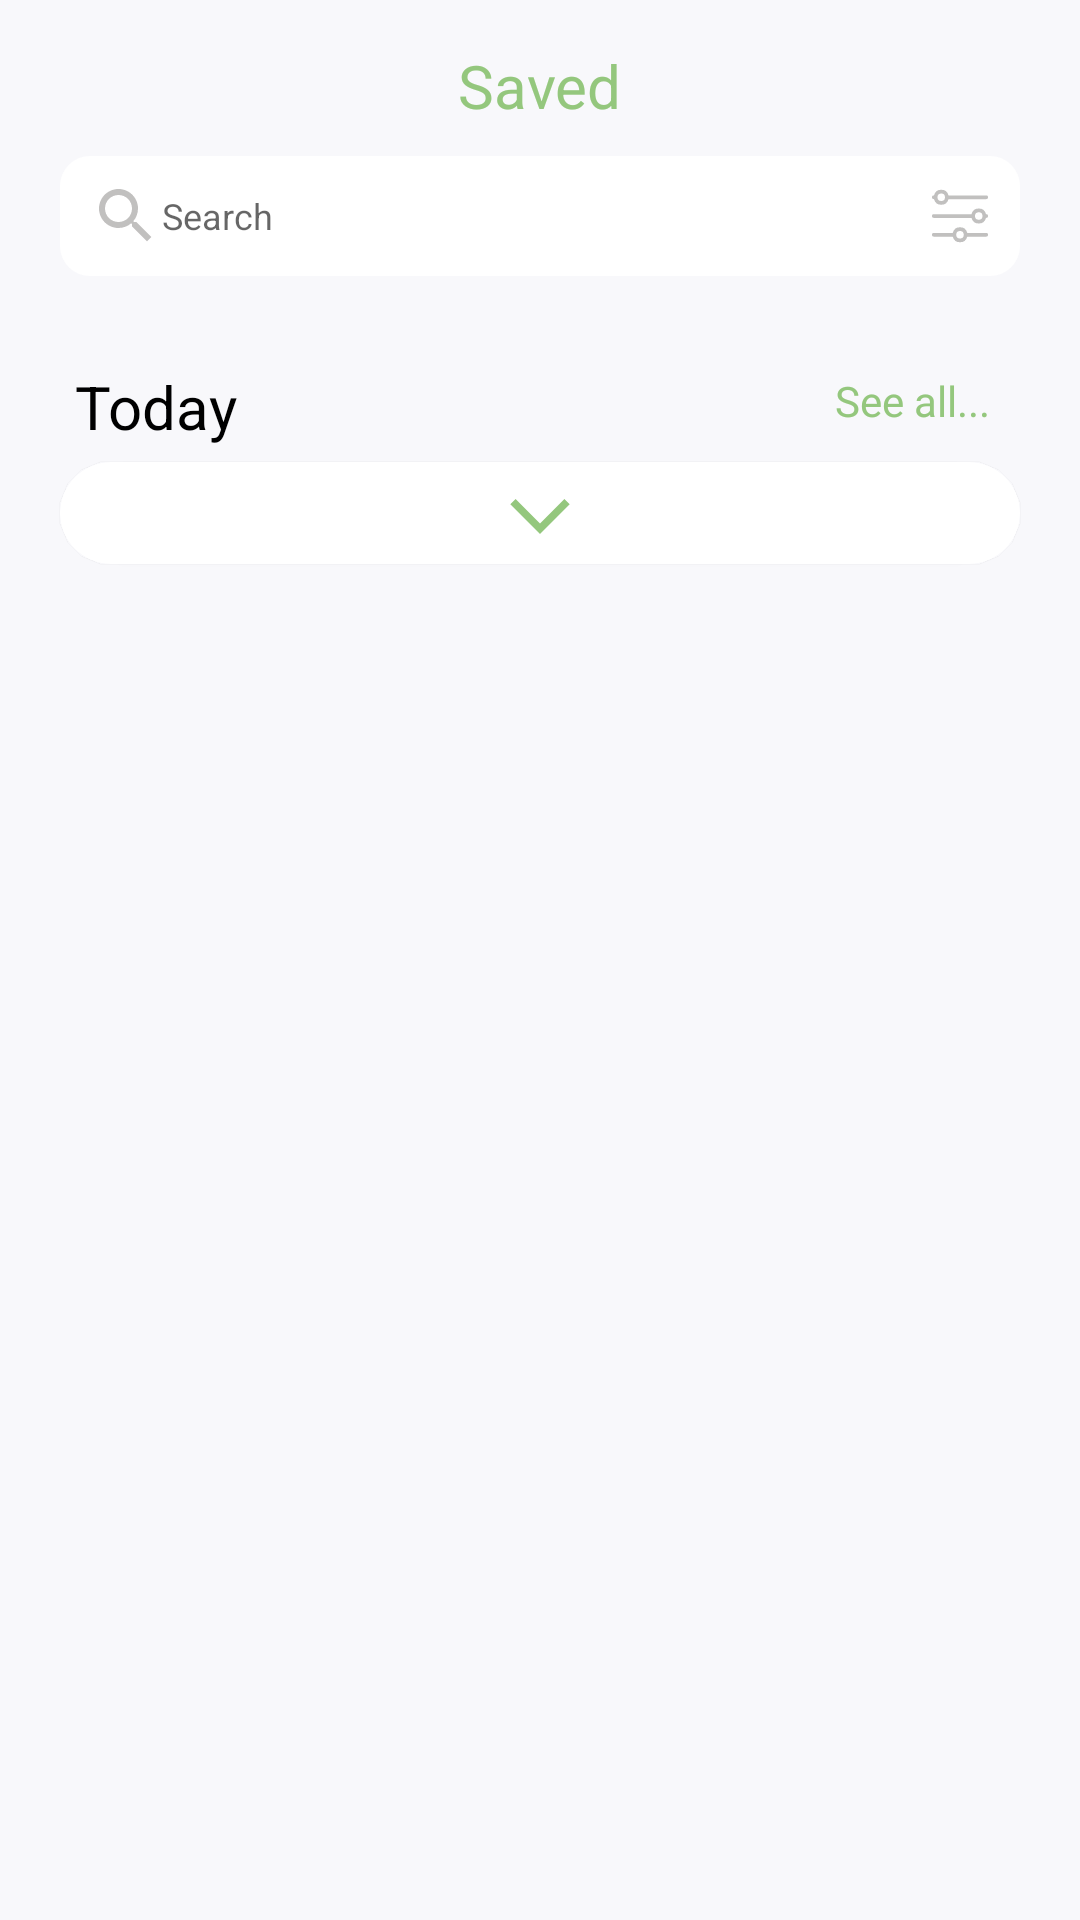

Icon click points for this 1080px×1920px phone screenshot, format (x,y):
filter: (960,216)
